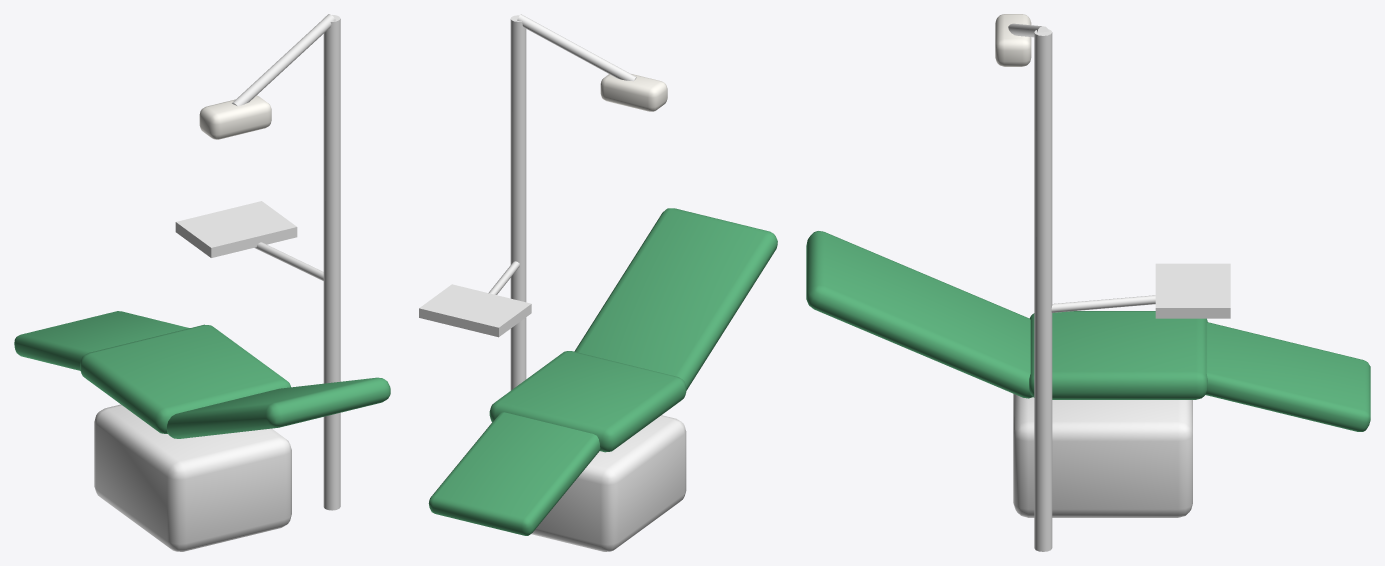
Rendered from hospital.dental.chair.glb.
3 views of the same model, side by side, from view 1: azimuth 30°, elevation 25°; view 2: azimuth 150°, elevation 25°; view 3: azimuth 270°, elevation 25° (orthographic). The views are drawn at different scales.
Parts seen in each view (by area): view 1: main__plastic_white, main__plastic_green, main__light_emitter; view 2: main__plastic_green, main__plastic_white, main__light_emitter; view 3: main__plastic_green, main__plastic_white, main__light_emitter.
Part boxes in pixels (x1,y1,x2,y2): main__plastic_white: [94, 14, 340, 551]; main__plastic_green: [14, 311, 390, 438]; main__light_emitter: [199, 95, 271, 139]; main__plastic_green: [428, 208, 777, 535]; main__plastic_white: [419, 14, 686, 551]; main__light_emitter: [600, 74, 667, 111]; main__plastic_green: [806, 231, 1370, 431]; main__plastic_white: [1008, 23, 1230, 551]; main__light_emitter: [995, 14, 1031, 66].
Bounding box in the file's own units: 0.8 × 1.92 × 1.88.
